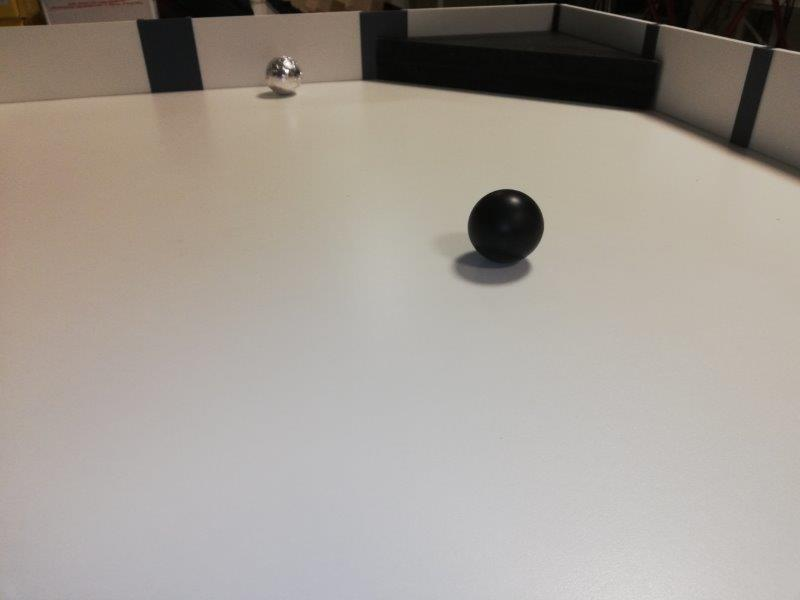bianca: (266, 56, 301, 93)
nera: (468, 187, 547, 267)
